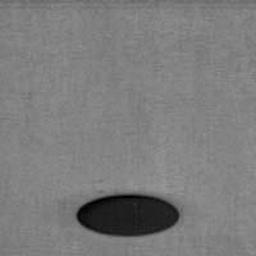Punching: (77, 192, 179, 237)
